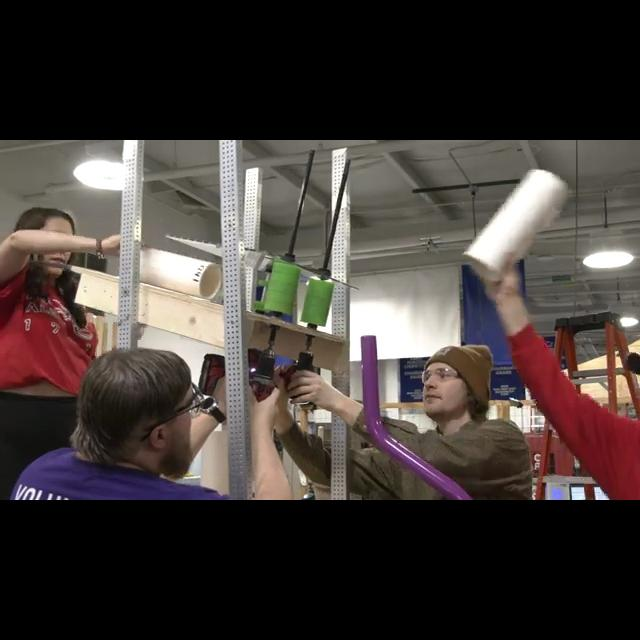CORAL: (461, 166, 569, 282), (139, 248, 221, 298)
